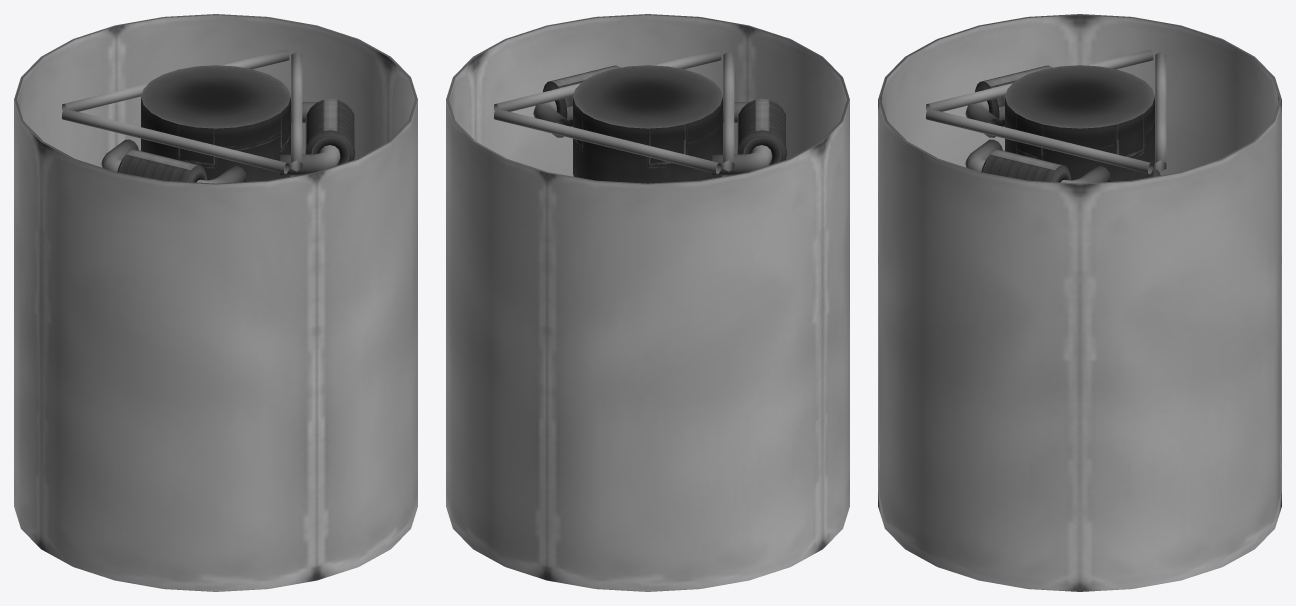
Rendered from bluedog_NavahoEngine_bits.dae.
The picture shows the model from 3 angles, left to right: view 1: azimuth 30°, elevation 25°; view 2: azimuth 150°, elevation 25°; view 3: azimuth 270°, elevation 25°; orthographic projection.
Visible parts, largest first — view 1: fairing, AblestarEngine1, pCylinder41_ncl1_1, UhThingCylinder, UhThingCylinder_ncl1_1, pCylinder41, pCylinder41_ncl1_2, ThingCylinderDown1, ThingCylinderDown1_ncl1_1; view 2: fairing, AblestarEngine1, pCylinder41, UhThingCylinder_ncl1_1, pCylinder41_ncl1_2, pCylinder41_ncl1_1, ThingCylinderDown1_ncl1_1, UhThingCylinder, ThingCylinderDown; view 3: fairing, AblestarEngine1, pCylinder41_ncl1_2, UhThingCylinder, pCylinder41_ncl1_1, pCylinder41, UhThingCylinder_ncl1_1, ThingCylinderDown1, ThingCylinderDown_ncl1_1.
Part boxes in pixels (<box>): fairing: <box>14,14,417,591</box>; AblestarEngine1: <box>141,65,290,181</box>; pCylinder41_ncl1_1: <box>62,108,289,173</box>; UhThingCylinder: <box>305,98,355,164</box>; UhThingCylinder_ncl1_1: <box>117,149,207,182</box>; pCylinder41: <box>62,49,289,111</box>; pCylinder41_ncl1_2: <box>291,52,302,171</box>; ThingCylinderDown1: <box>280,145,340,175</box>; ThingCylinderDown1_ncl1_1: <box>101,139,138,172</box>; fairing: <box>446,14,849,591</box>; AblestarEngine1: <box>573,65,722,183</box>; pCylinder41: <box>494,108,721,173</box>; UhThingCylinder_ncl1_1: <box>737,98,787,164</box>; pCylinder41_ncl1_2: <box>494,49,721,111</box>; pCylinder41_ncl1_1: <box>723,52,734,171</box>; ThingCylinderDown1_ncl1_1: <box>712,145,772,175</box>; UhThingCylinder: <box>543,65,620,126</box>; ThingCylinderDown: <box>533,101,570,137</box>; fairing: <box>878,14,1281,591</box>; AblestarEngine1: <box>1005,65,1154,181</box>; pCylinder41_ncl1_2: <box>926,108,1153,173</box>; UhThingCylinder: <box>981,149,1070,182</box>; pCylinder41_ncl1_1: <box>926,49,1153,111</box>; pCylinder41: <box>1155,52,1166,171</box>; UhThingCylinder_ncl1_1: <box>975,65,1052,126</box>; ThingCylinderDown1: <box>965,139,1002,172</box>; ThingCylinderDown_ncl1_1: <box>965,101,1002,137</box>.
Size of the model in its own units: 0.9376 by 1.05 by 0.9376.
